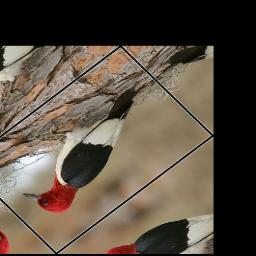Woodpecker: (0, 65, 185, 225)
